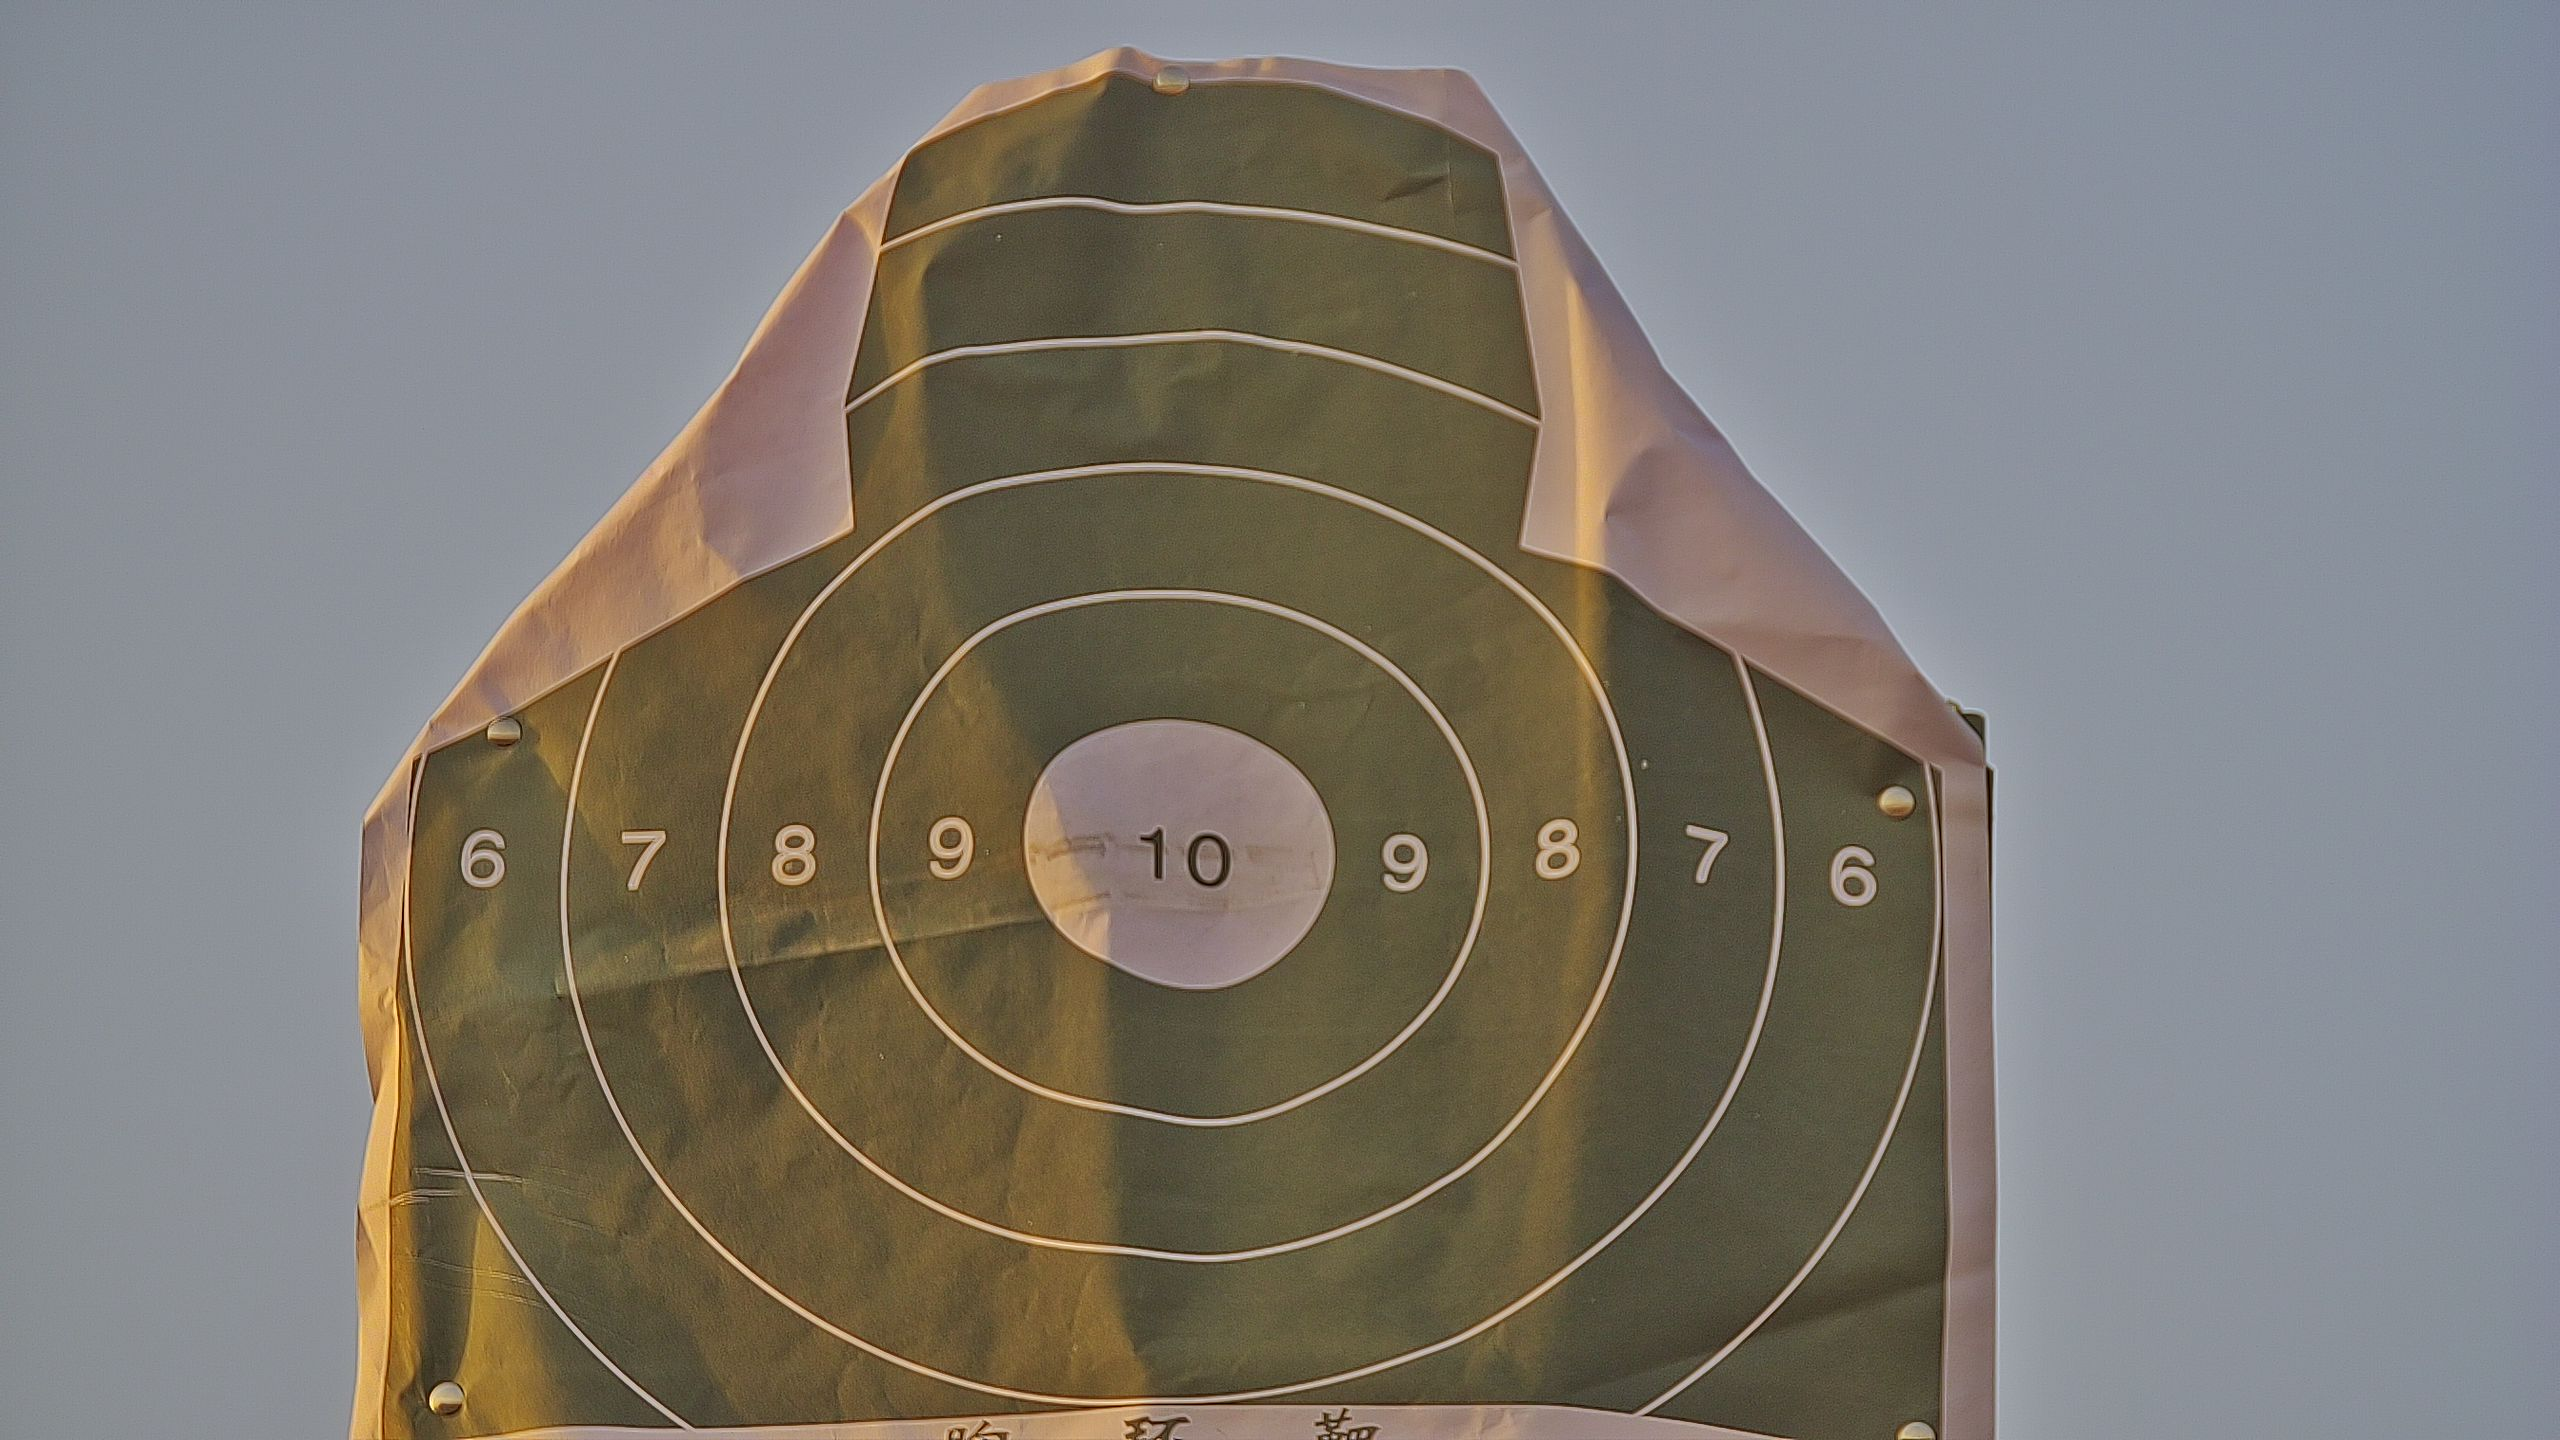kernel: (1173, 851, 1182, 856)
target: (387, 74, 1948, 1440)
ten: (1020, 717, 1336, 993)
